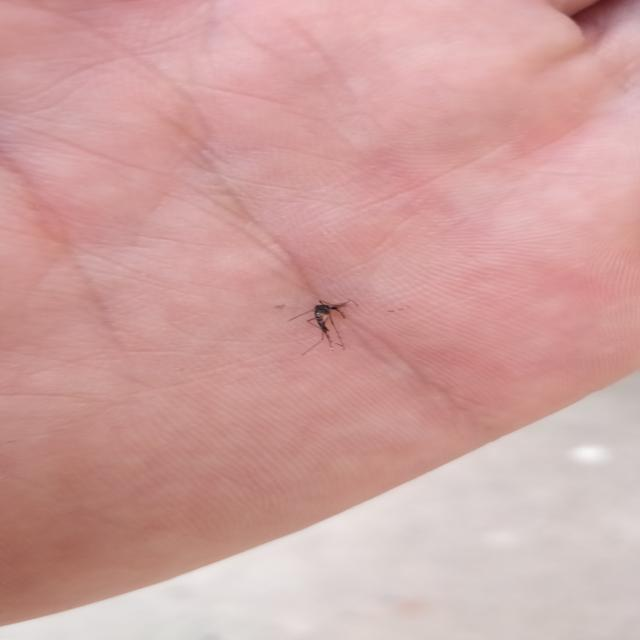albopictus: (276, 292, 358, 355)
